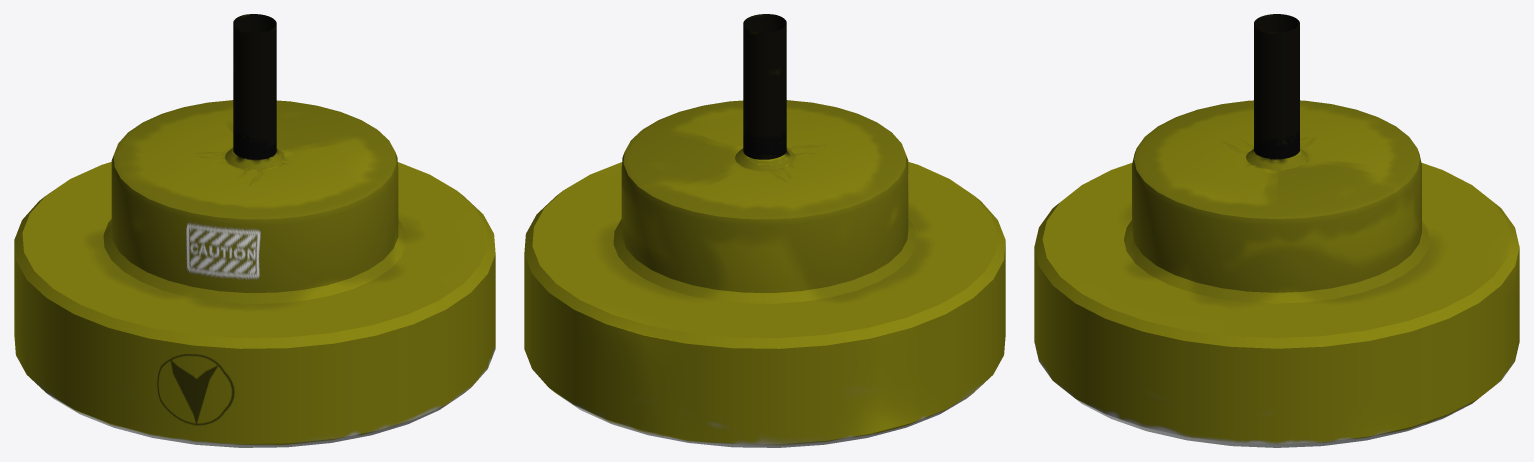
The model's file is Mini_game_Crane.fbx.
3 views of the same model, side by side, from view 1: azimuth 30°, elevation 25°; view 2: azimuth 150°, elevation 25°; view 3: azimuth 270°, elevation 25° (orthographic).
Visible parts, largest first — view 1: Mag_Crane; view 2: Mag_Crane; view 3: Mag_Crane.
Part boxes in pixels (x1,y1,x2,y2): Mag_Crane: [14, 14, 495, 447]; Mag_Crane: [524, 14, 1005, 447]; Mag_Crane: [1034, 14, 1519, 447].
Size of the model in its own units: 59.62 by 44.5 by 59.96.
1 material, 1 textured.
